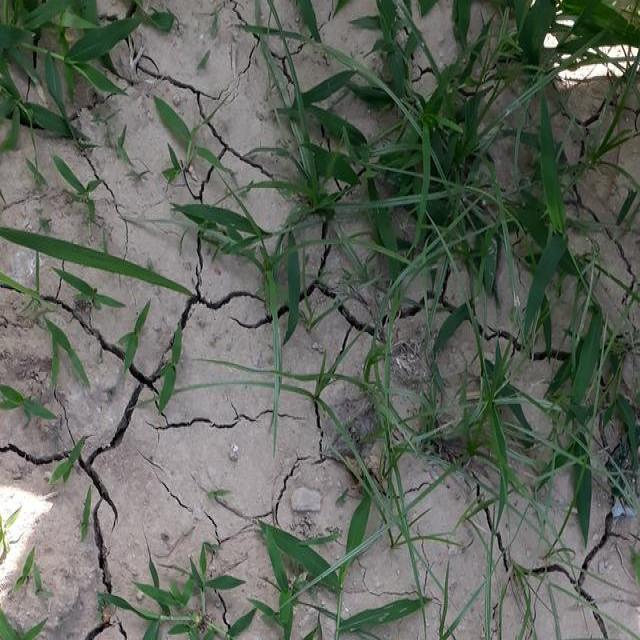weed: (290, 43, 640, 282), (352, 359, 640, 510), (0, 0, 140, 119)
